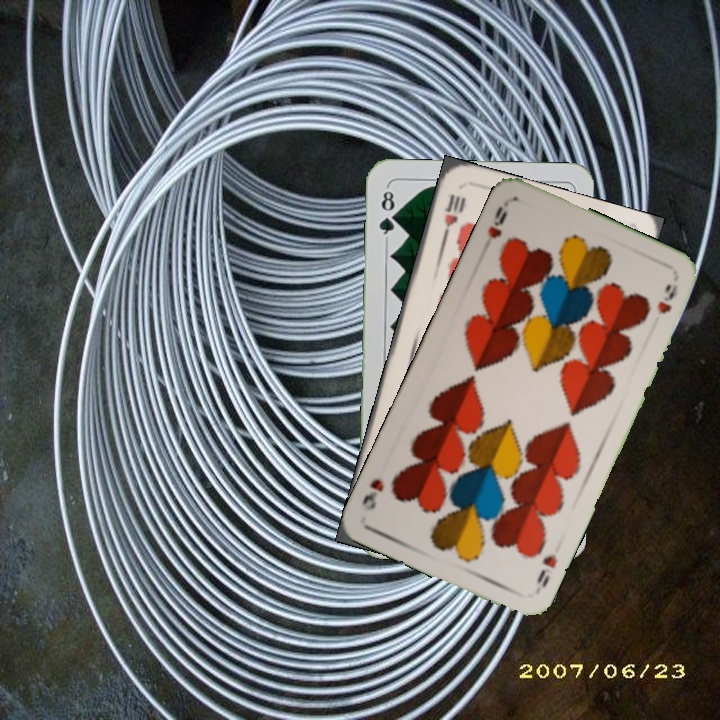G8: (374, 184, 399, 243)
H10: (438, 190, 468, 243)
H9: (484, 197, 512, 242), (533, 550, 560, 591)
